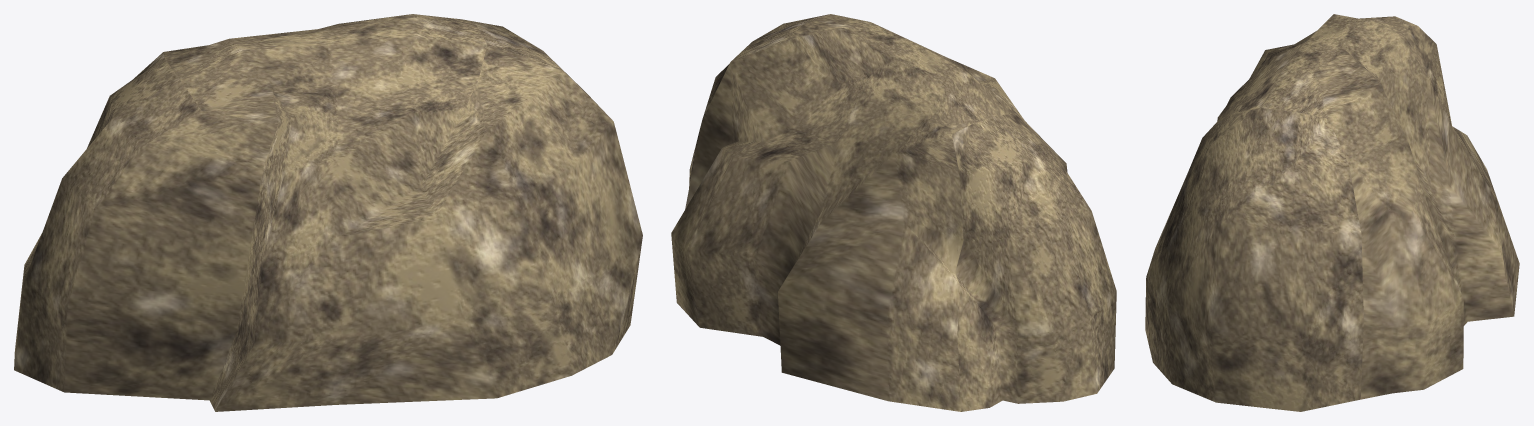
The model's file is stone1.fbx.
3 views of the same model, side by side, from view 1: azimuth 30°, elevation 25°; view 2: azimuth 150°, elevation 25°; view 3: azimuth 270°, elevation 25° (orthographic). The views are drawn at different scales.
Visible parts, largest first — view 1: stone1; view 2: stone1; view 3: stone1.
Boxes of the visible parts, x1,y1,x2,y2 form: stone1: (14, 14, 642, 411); stone1: (671, 14, 1116, 411); stone1: (1145, 14, 1519, 411).
Size of the model in its own units: 18.82 by 10.26 by 13.35.
